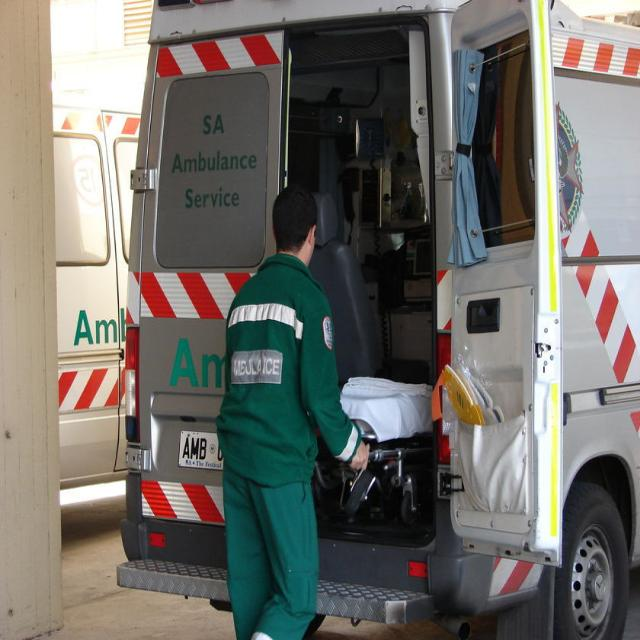emergency-vehicle: (120, 22, 486, 604)
